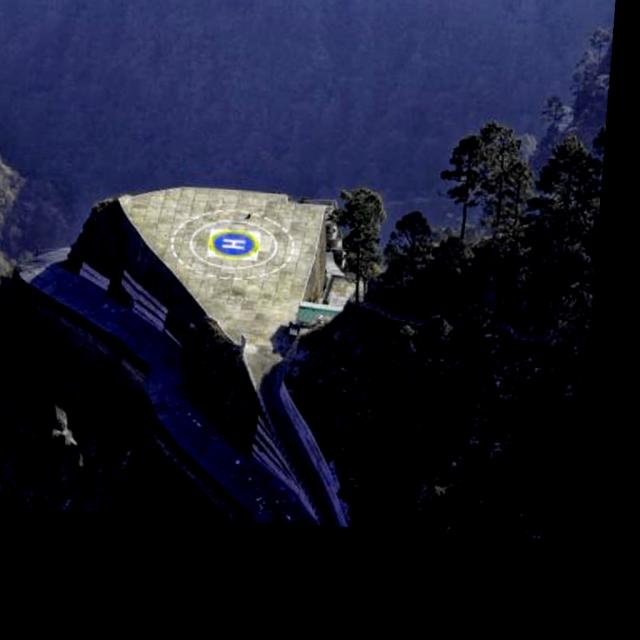helipad: (206, 227, 260, 262)
